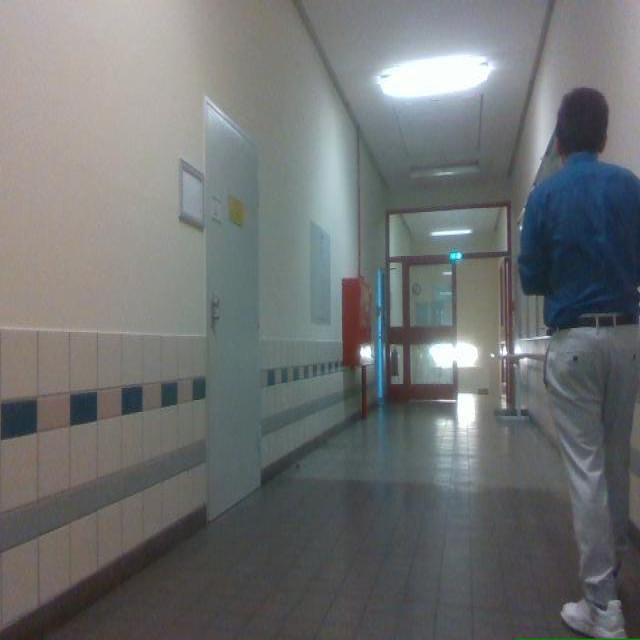humans: (518, 87, 639, 636)
